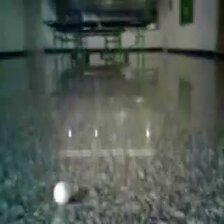w: (52, 180, 71, 204)
